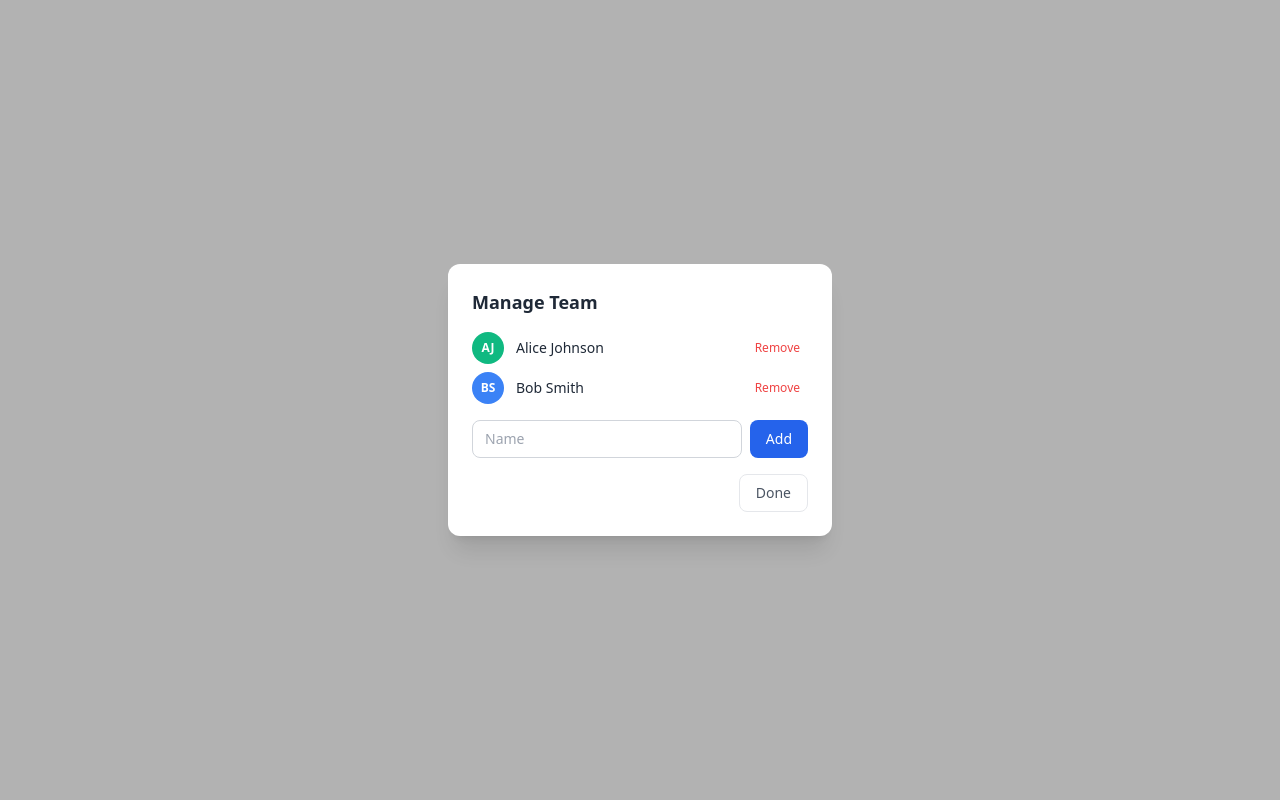
TeamModal › remove confirmation flow › clicking Remove on member B collapses member A confirmation and shows member B confirmation
This screenshot has width=1280, height=800.
// Open confirmation for Alice (first Remove button)
Click the button "Remove" next to "Alice Johnson" at x=777, y=348, box [747,336,808,360]
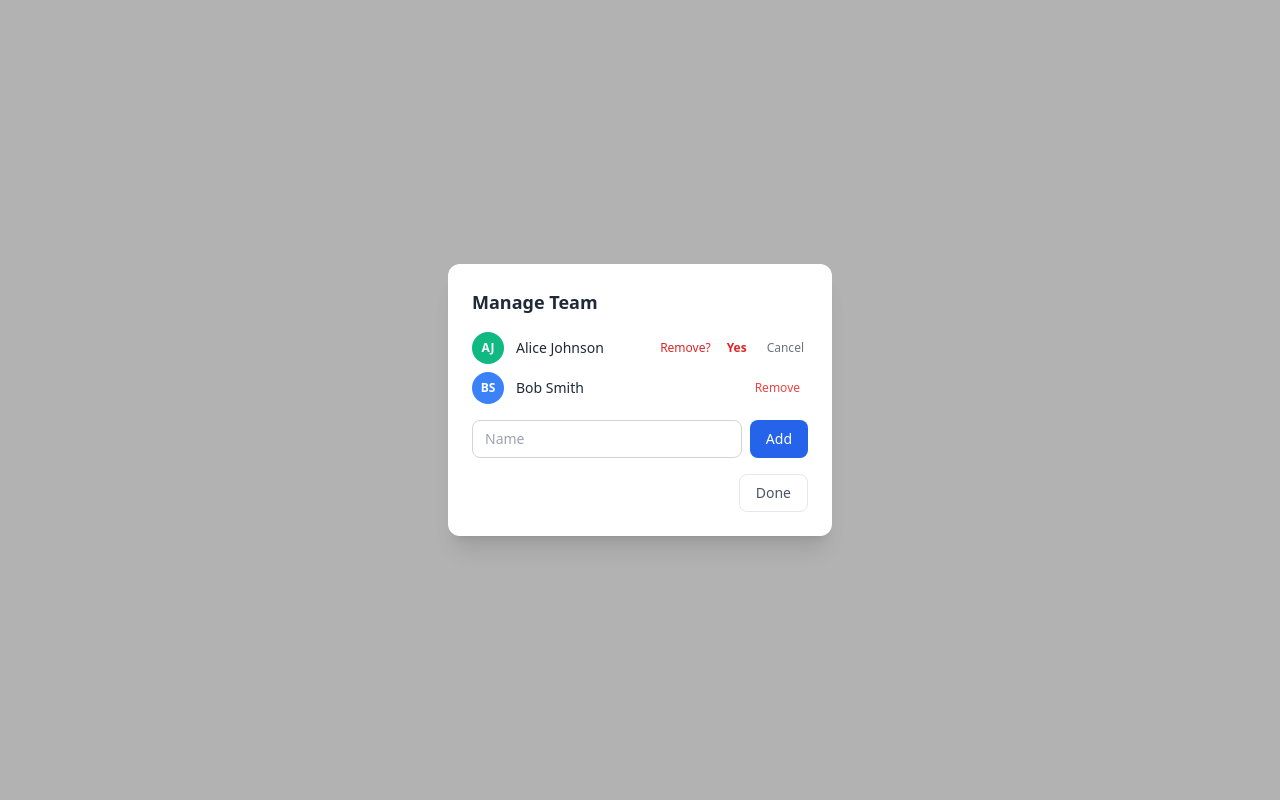
Expected: the text "Remove?" is shown, [660,340,711,356]
// Now click Remove for Bob — the only remaining Remove button (Alice's row shows Yes/Cancel now)
Click the button "Remove" at x=777, y=388, box [747,376,808,400]
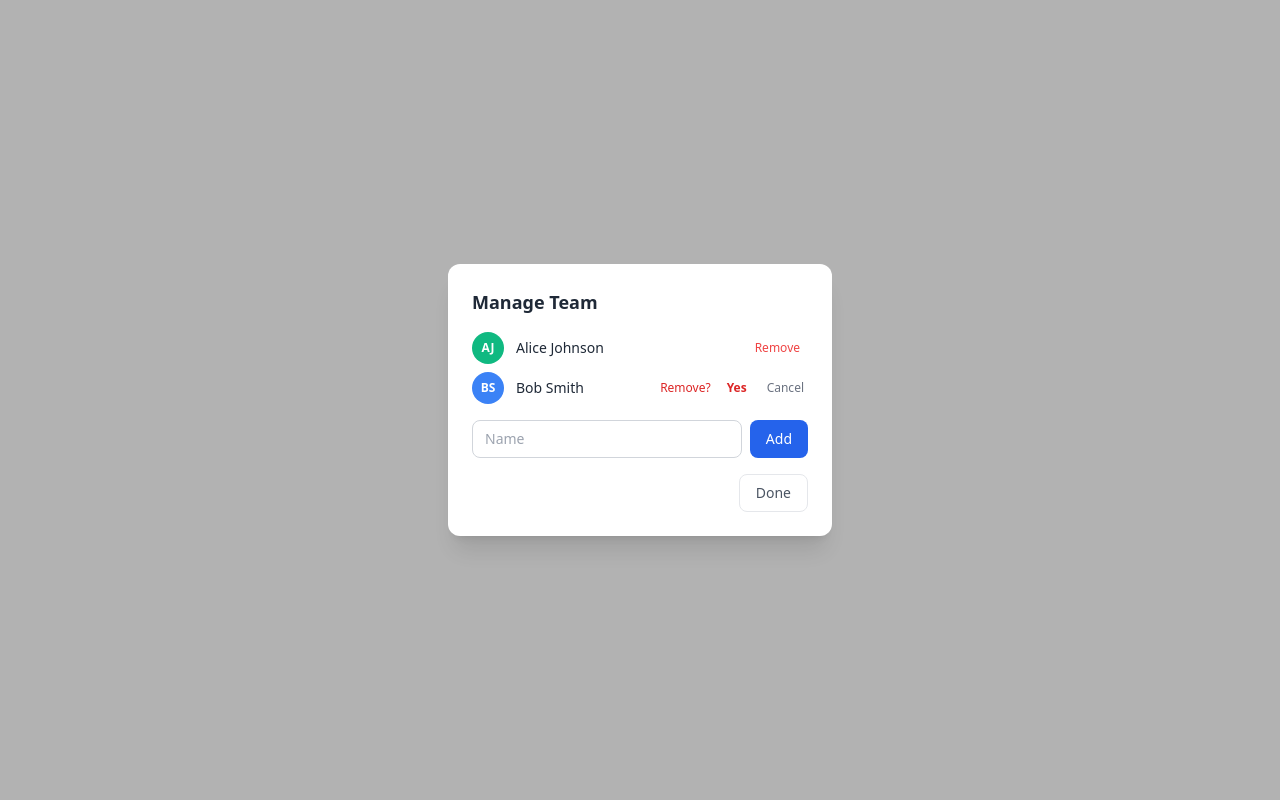
Expected: the text "Remove?" is shown once, [660,380,711,396]
Expected: the button "Remove" is shown, [747,336,808,360]
